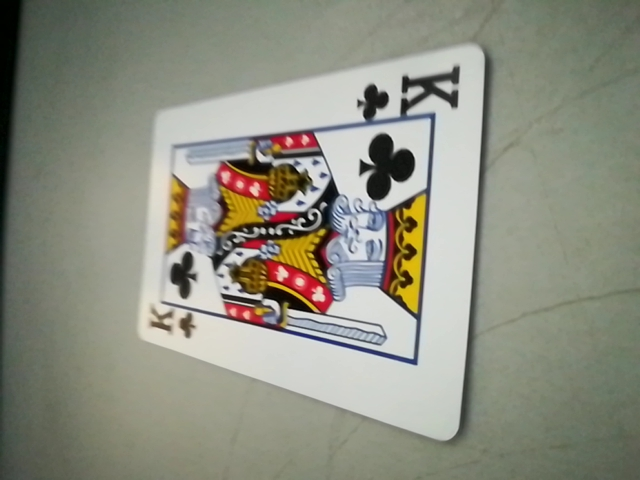mh k: (351, 62, 467, 124), (140, 297, 201, 343)
